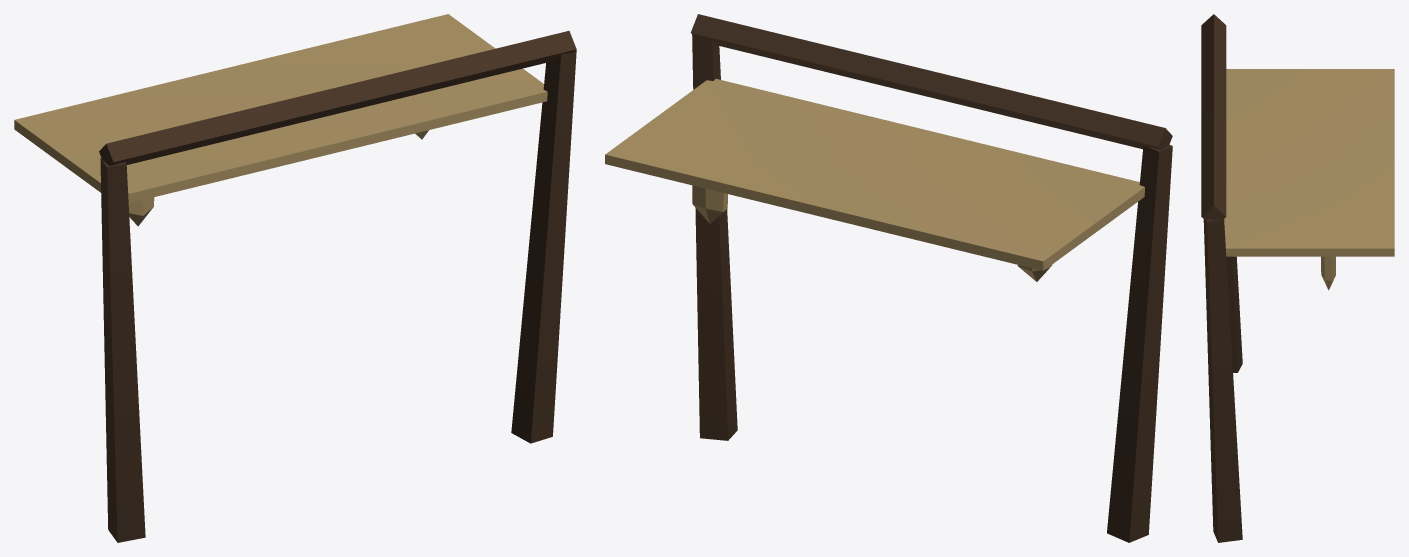
Rendered from caral_drying_rack_lod1.glb.
3 views of the same model, side by side, from view 1: azimuth 30°, elevation 25°; view 2: azimuth 150°, elevation 25°; view 3: azimuth 270°, elevation 25° (orthographic). The views are drawn at different scales.
Parts seen in each view (by area): view 1: GEO-Props_drying_rack_LOD1; view 2: GEO-Props_drying_rack_LOD1; view 3: GEO-Props_drying_rack_LOD1.
Boxes of the visible parts, x1,y1,x2,y2 form: GEO-Props_drying_rack_LOD1: (14, 14, 576, 542); GEO-Props_drying_rack_LOD1: (605, 14, 1172, 542); GEO-Props_drying_rack_LOD1: (1201, 14, 1394, 542).
Bounding box in the file's own units: 1.3 × 1.07 × 0.545.
